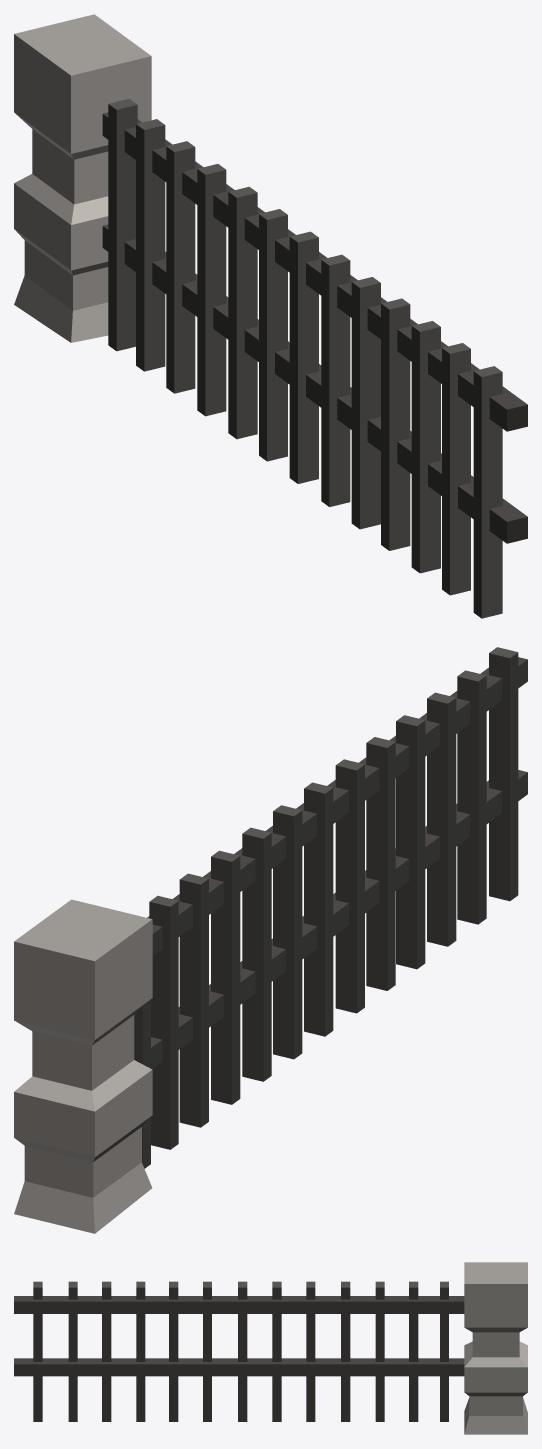
Rendered from Fence_Iron_02.fbx.
3 renders of one model, top to bottom at view 1: azimuth 30°, elevation 25°; view 2: azimuth 150°, elevation 25°; view 3: azimuth 270°, elevation 25°, orthographic. The views are drawn at different scales.
Visible parts, largest first — view 1: Fence_Iron_02; view 2: Fence_Iron_02; view 3: Fence_Iron_02.
Boxes of the visible parts, box(x1,y1,x2,y2) form: Fence_Iron_02: box(14, 14, 527, 618); Fence_Iron_02: box(14, 647, 527, 1233); Fence_Iron_02: box(14, 1262, 527, 1434).
Bounding box in the file's own units: 0.4839 × 4.81 × 1.56.
